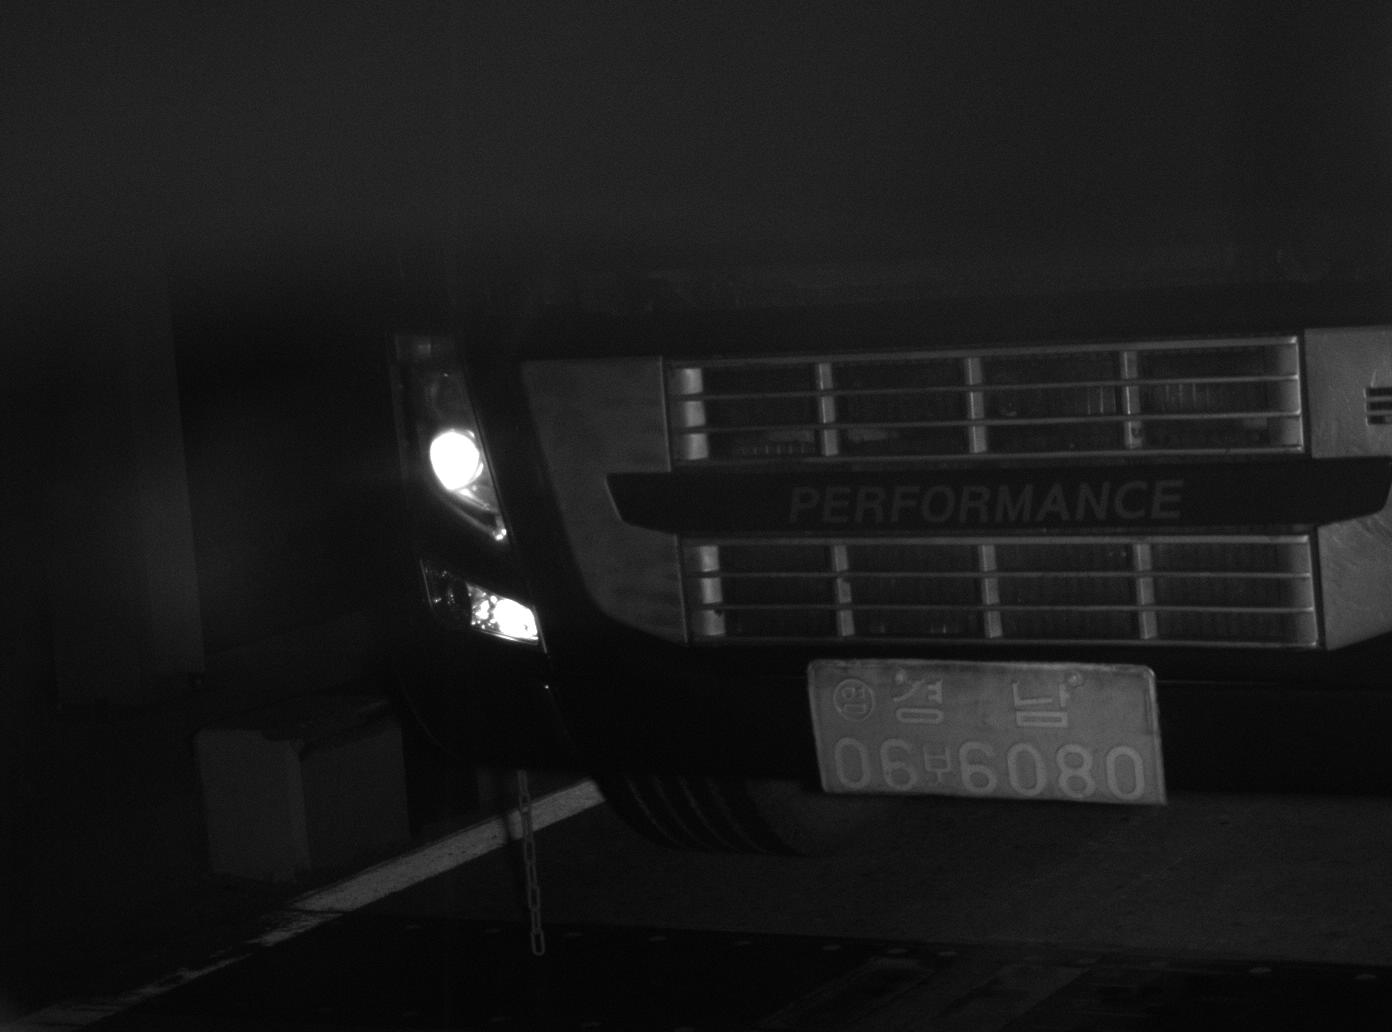car: (341, 91, 1389, 862)
plate: (803, 655, 1168, 810)
